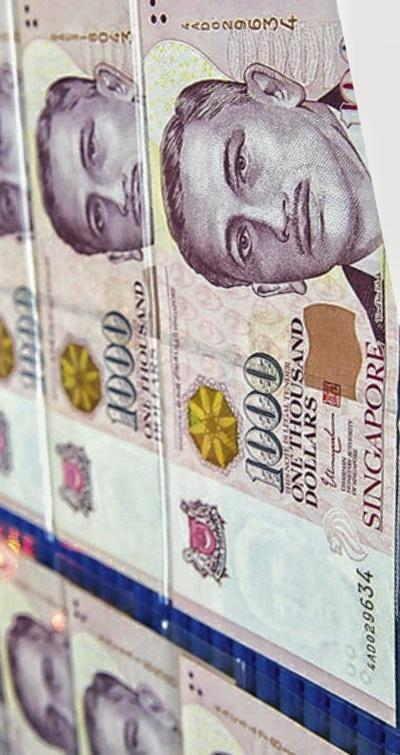1000SingaporeDollar: (151, 0, 396, 673)
